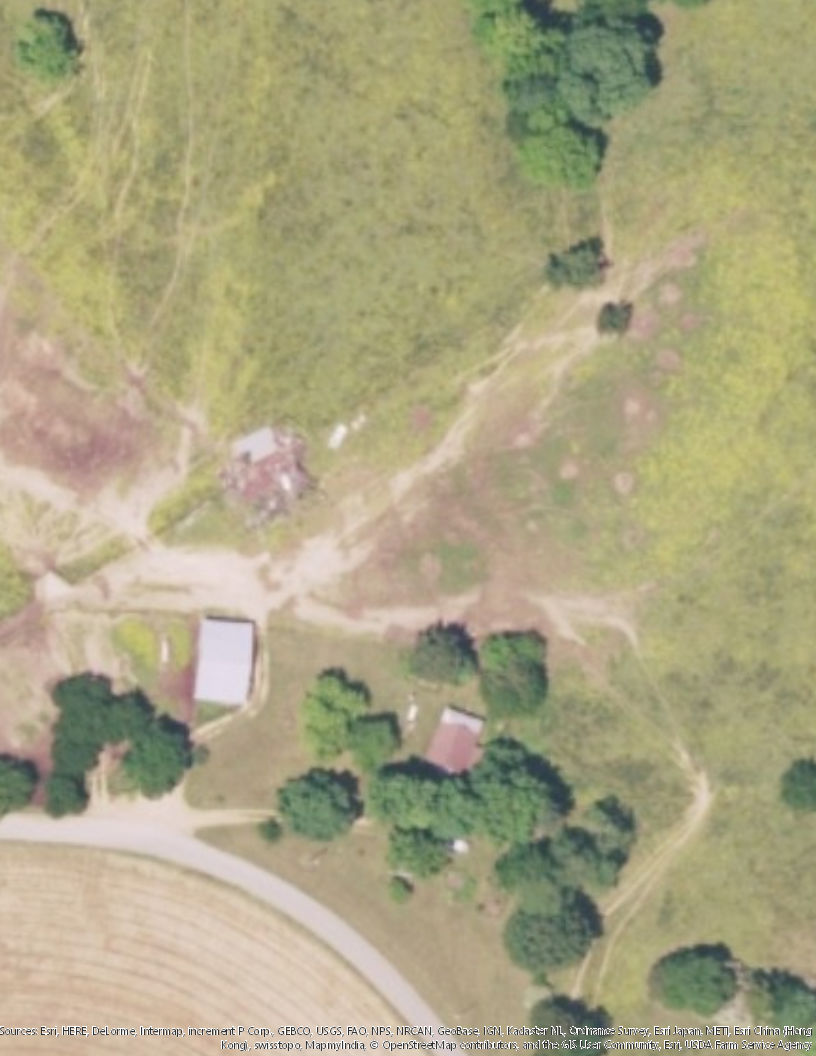cafo: (189, 607, 264, 708)
